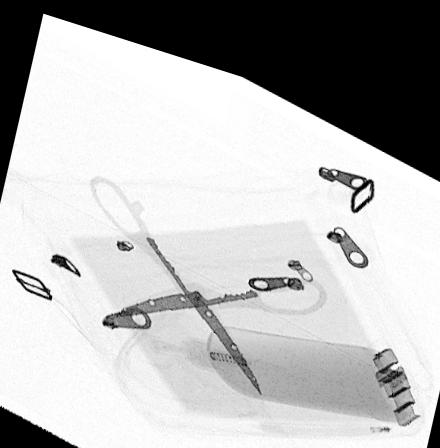Scissors: (88, 168, 326, 380)
